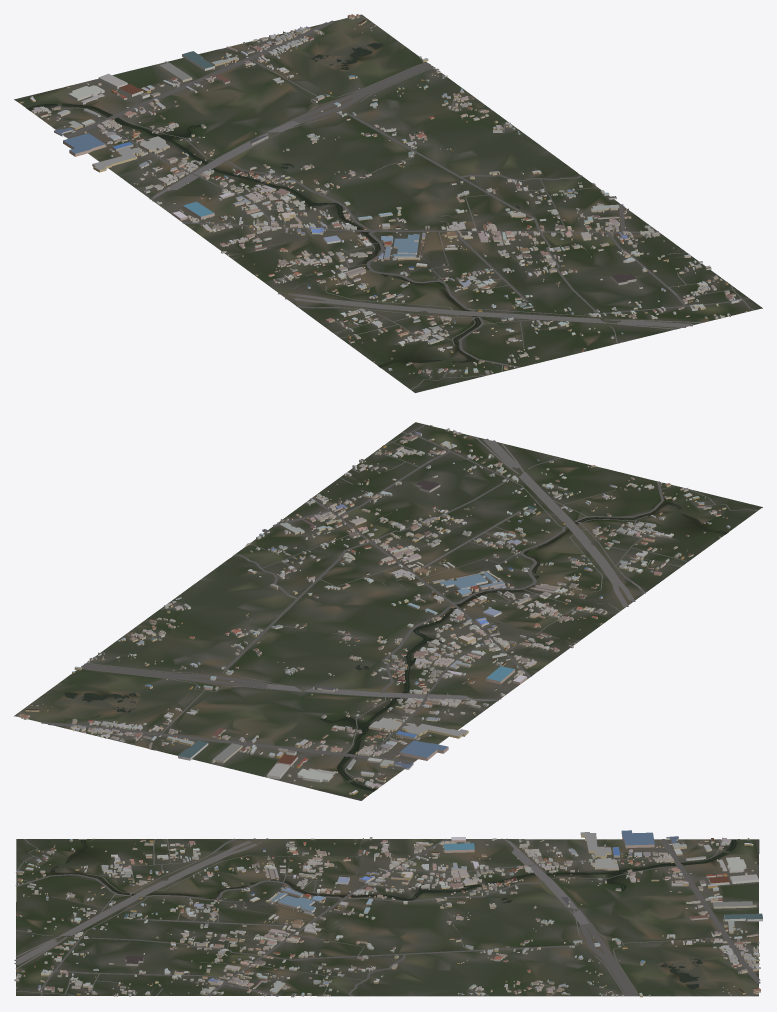
3 renders of one model, top to bottom at view 1: azimuth 30°, elevation 25°; view 2: azimuth 150°, elevation 25°; view 3: azimuth 270°, elevation 25°, orthographic. The views are drawn at different scales.
Visible parts, largest first — view 1: ground, buildings, roads, water; view 2: ground, buildings, roads, water; view 3: ground, buildings, roads, water.
Boxes of the visible parts, bbox=[...] form: ground: bbox=[14, 14, 762, 392]; buildings: bbox=[19, 14, 747, 378]; roads: bbox=[35, 15, 754, 389]; water: bbox=[15, 43, 519, 367]; ground: bbox=[14, 422, 762, 800]; buildings: bbox=[18, 425, 730, 796]; roads: bbox=[17, 424, 757, 784]; water: bbox=[64, 502, 727, 800]; ground: bbox=[16, 839, 759, 996]; buildings: bbox=[14, 830, 762, 997]; roads: bbox=[14, 838, 760, 996]; water: bbox=[50, 839, 758, 989].
Bounding box in the file's own units: 1466 × 16.03 × 2824.
